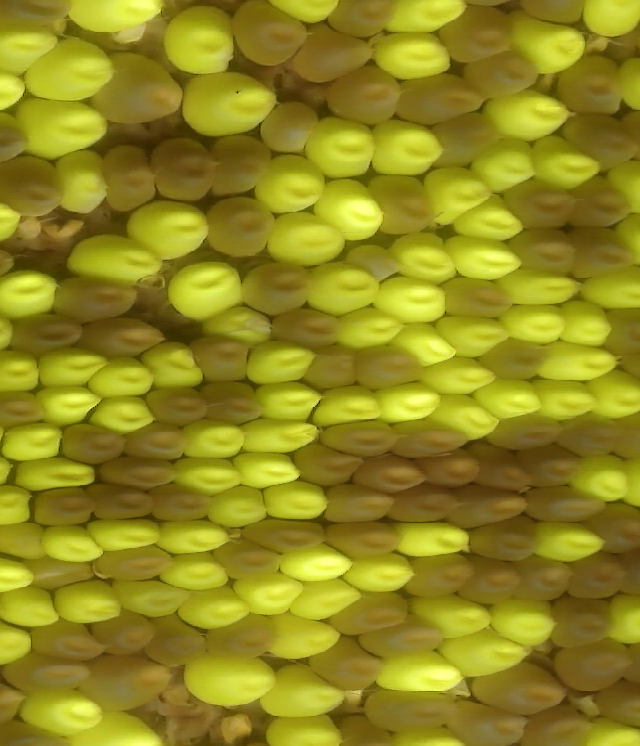fluorescent: (181, 70, 279, 137), (28, 34, 117, 107), (15, 95, 111, 155), (160, 4, 237, 76), (502, 11, 586, 75), (184, 651, 279, 706), (125, 199, 211, 259), (64, 233, 165, 282), (263, 209, 346, 267), (252, 153, 330, 214), (369, 117, 446, 178), (484, 90, 575, 141), (316, 177, 386, 243), (167, 259, 244, 319), (304, 116, 375, 180), (269, 661, 346, 717), (439, 629, 531, 674), (373, 30, 452, 82), (444, 233, 522, 285), (418, 165, 491, 219), (431, 312, 511, 361), (532, 137, 602, 192), (374, 650, 467, 691), (22, 688, 104, 734), (54, 149, 112, 213), (409, 592, 495, 635), (310, 260, 379, 313), (264, 614, 344, 659), (138, 339, 207, 391), (391, 229, 457, 283), (488, 598, 559, 648), (0, 16, 60, 74), (9, 454, 98, 493), (243, 339, 316, 386), (377, 274, 447, 323), (459, 195, 526, 246), (389, 518, 472, 559), (473, 139, 538, 190), (500, 269, 586, 307), (235, 572, 304, 619), (0, 269, 60, 323), (537, 346, 625, 382), (35, 348, 110, 390), (533, 519, 606, 562), (433, 393, 501, 439), (335, 307, 406, 351), (569, 454, 631, 504), (394, 320, 460, 366), (39, 522, 106, 567), (422, 357, 499, 396), (314, 382, 380, 427), (348, 551, 414, 596), (157, 553, 231, 593), (280, 543, 354, 583), (237, 418, 321, 453), (51, 580, 121, 622), (202, 304, 277, 343), (178, 590, 251, 630), (180, 416, 246, 460), (114, 576, 183, 618), (469, 378, 543, 417), (586, 367, 640, 420), (375, 380, 443, 422), (157, 516, 230, 555), (173, 455, 244, 495), (264, 711, 344, 746), (90, 356, 156, 398), (0, 586, 64, 629), (583, 265, 640, 313), (0, 419, 63, 462), (90, 516, 163, 553), (204, 487, 267, 529), (557, 298, 612, 346), (262, 480, 328, 520), (295, 580, 363, 618), (35, 385, 99, 424), (235, 451, 301, 488), (257, 378, 318, 418), (501, 303, 565, 341), (539, 378, 598, 419), (94, 396, 157, 434), (602, 156, 640, 217), (0, 349, 43, 396), (0, 482, 37, 528), (0, 619, 35, 666), (609, 592, 640, 644), (0, 550, 33, 595)
nonfluorescent: (96, 50, 183, 127), (89, 650, 173, 712), (148, 135, 222, 204), (231, 2, 306, 67), (469, 662, 564, 713), (322, 64, 405, 120), (206, 133, 277, 198), (562, 111, 640, 170), (298, 23, 377, 81), (204, 195, 275, 259), (369, 171, 441, 234), (100, 143, 165, 212), (396, 72, 484, 122), (551, 640, 632, 693), (501, 177, 581, 230), (51, 275, 141, 322), (556, 54, 627, 113), (439, 4, 512, 60), (362, 687, 458, 729), (0, 156, 67, 216), (432, 111, 506, 165), (311, 637, 386, 690), (0, 653, 90, 696), (465, 440, 537, 493), (331, 592, 410, 638), (570, 228, 636, 282), (242, 259, 309, 312), (522, 483, 606, 525), (243, 516, 332, 555), (351, 451, 428, 496), (447, 701, 524, 746), (189, 332, 252, 386), (78, 318, 165, 357), (211, 611, 278, 661), (509, 225, 573, 277), (452, 483, 531, 525), (563, 550, 628, 601), (457, 51, 537, 92), (26, 619, 106, 660), (94, 454, 180, 492), (6, 311, 80, 355), (322, 481, 396, 525), (359, 622, 444, 660), (201, 378, 263, 430), (393, 419, 467, 462), (323, 418, 398, 460), (325, 518, 400, 560), (212, 539, 285, 582), (32, 482, 100, 528), (302, 343, 362, 395), (260, 99, 321, 150), (290, 444, 364, 486), (148, 613, 207, 665), (552, 602, 615, 650), (583, 503, 640, 556), (469, 519, 536, 564), (410, 551, 475, 597), (122, 420, 188, 465), (143, 385, 210, 429), (491, 413, 563, 453), (93, 546, 175, 581), (554, 413, 618, 457), (149, 480, 214, 523), (441, 277, 507, 319), (272, 306, 343, 345), (88, 482, 157, 522), (481, 337, 548, 378), (354, 344, 421, 385), (522, 706, 590, 746), (520, 444, 581, 488), (62, 424, 127, 465), (463, 555, 517, 604), (517, 554, 572, 602), (578, 182, 633, 229), (393, 483, 457, 523), (25, 554, 99, 588), (102, 608, 154, 656), (420, 450, 479, 488), (348, 243, 405, 280), (596, 681, 640, 723), (0, 109, 31, 167), (605, 306, 640, 355), (0, 391, 47, 425)
